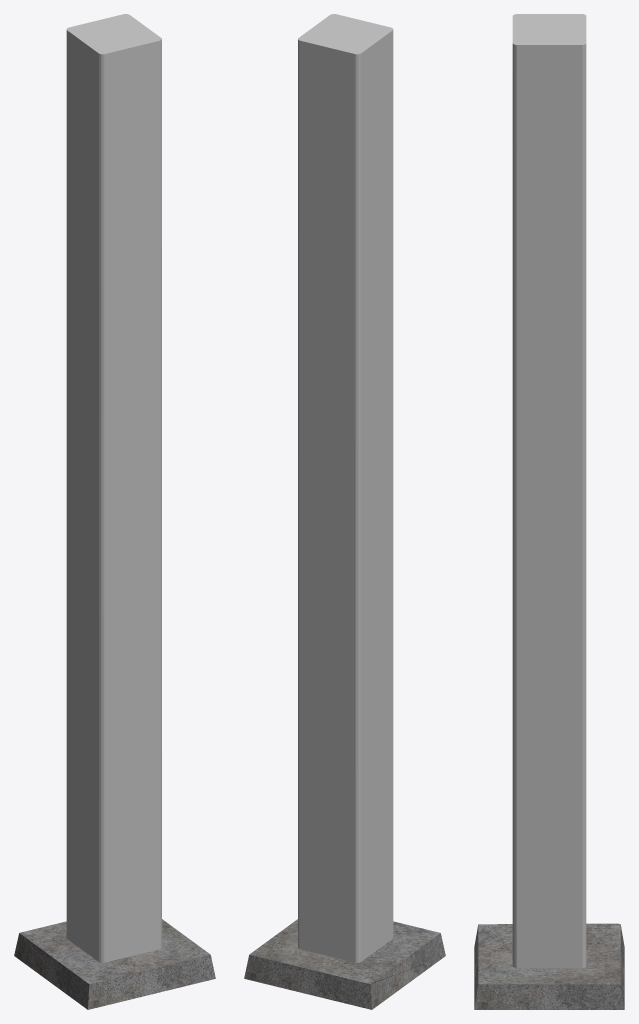
File: SM_Pillar_1.FBX
3 renders of one model, left to right at view 1: azimuth 30°, elevation 25°; view 2: azimuth 150°, elevation 25°; view 3: azimuth 270°, elevation 25°, orthographic.
Parts seen in each view (by area): view 1: SM_Pillar_1; view 2: SM_Pillar_1; view 3: SM_Pillar_1.
Part boxes in pixels (box(x1,y1,x2,y2)): SM_Pillar_1: box(14, 14, 215, 1009); SM_Pillar_1: box(244, 14, 445, 1009); SM_Pillar_1: box(474, 14, 624, 1009).
Size of the model in its own units: 79.74 by 556 by 79.74.
